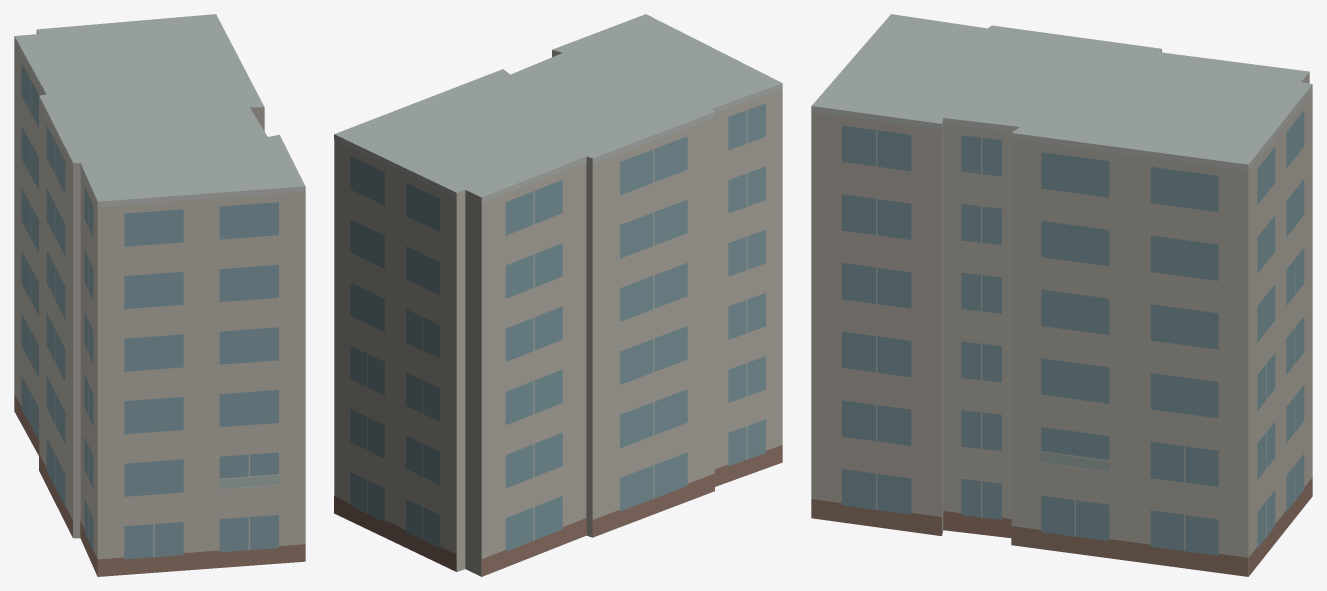
The model's file is survey-upis-32529290.glb.
3 views of the same model, side by side, from view 1: azimuth 30°, elevation 25°; view 2: azimuth 150°, elevation 25°; view 3: azimuth 270°, elevation 25° (orthographic). The views are drawn at different scales.
Visible parts, largest first — view 1: survey-upis-32529290.tmp; view 2: survey-upis-32529290.tmp; view 3: survey-upis-32529290.tmp.
Part boxes in pixels (x1,y1,x2,y2): survey-upis-32529290.tmp: [14, 14, 305, 576]; survey-upis-32529290.tmp: [334, 14, 782, 576]; survey-upis-32529290.tmp: [811, 14, 1312, 576].
Bounding box in the file's own units: 13.02 × 16.6 × 18.3.
